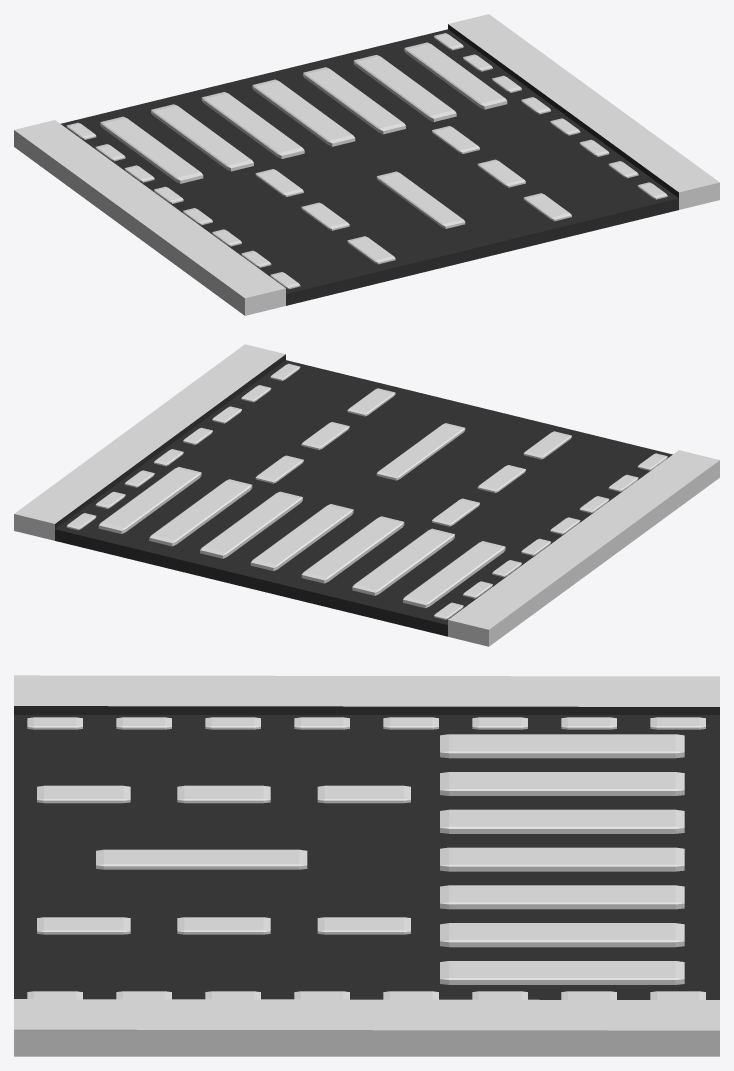
File: STA_Project_Road_3_V1.fbx
3 renders of one model, top to bottom at view 1: azimuth 30°, elevation 25°; view 2: azimuth 150°, elevation 25°; view 3: azimuth 270°, elevation 25°, orthographic. The views are drawn at different scales.
Visible parts, largest first — view 1: Roads_V3; view 2: Roads_V3; view 3: Roads_V3.
Boxes of the visible parts, x1=… form: Roads_V3: x1=14, y1=14, x2=719, y2=315; Roads_V3: x1=14, y1=344, x2=719, y2=646; Roads_V3: x1=14, y1=675, x2=719, y2=1056.
Size of the model in its own units: 1192 by 42.17 by 1004.
